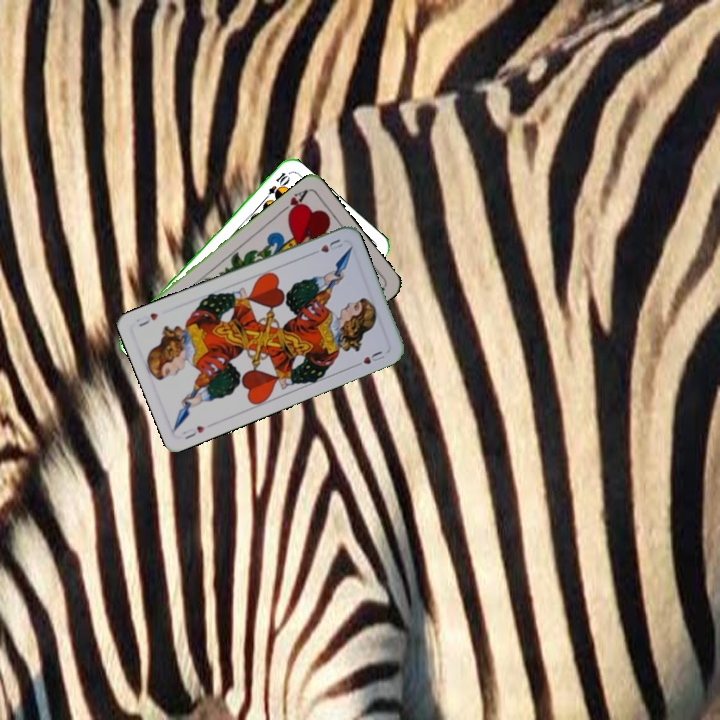E10: (259, 168, 291, 203)
HA: (276, 185, 311, 219)
HU: (307, 235, 345, 258), (178, 422, 208, 442)
